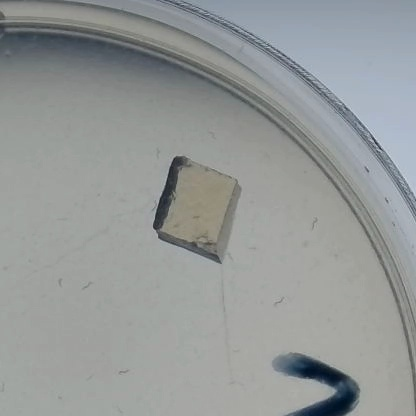worm: (292, 218, 326, 248), (81, 269, 104, 297), (263, 289, 289, 312), (104, 401, 134, 416), (79, 365, 97, 389), (219, 374, 242, 392), (197, 129, 222, 144), (56, 267, 70, 293), (115, 367, 137, 383), (241, 243, 261, 260), (147, 145, 167, 160), (0, 377, 11, 397), (229, 252, 237, 266)
